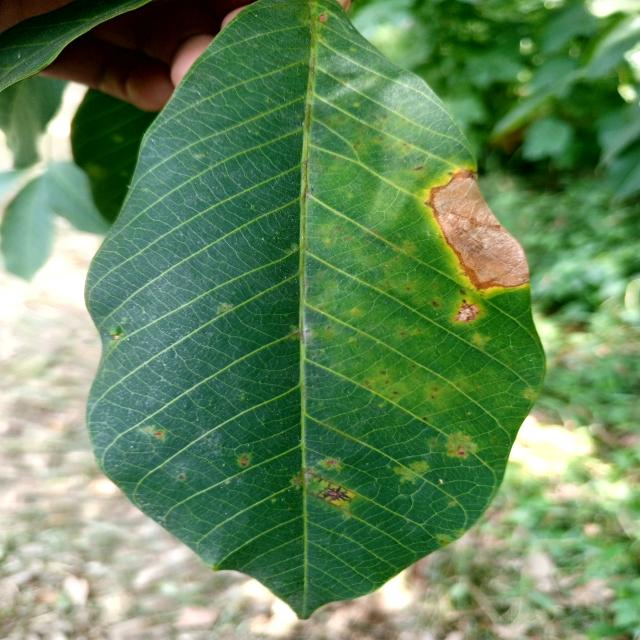Corynespora: (316, 483, 352, 504)
Leaf-Blight: (425, 169, 530, 291)
